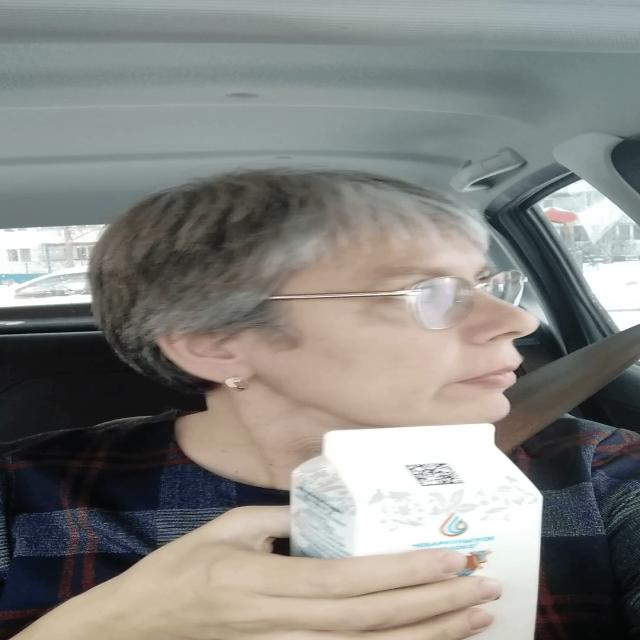3: (480, 323, 640, 466)
Seatbelt: (289, 414, 554, 639)
